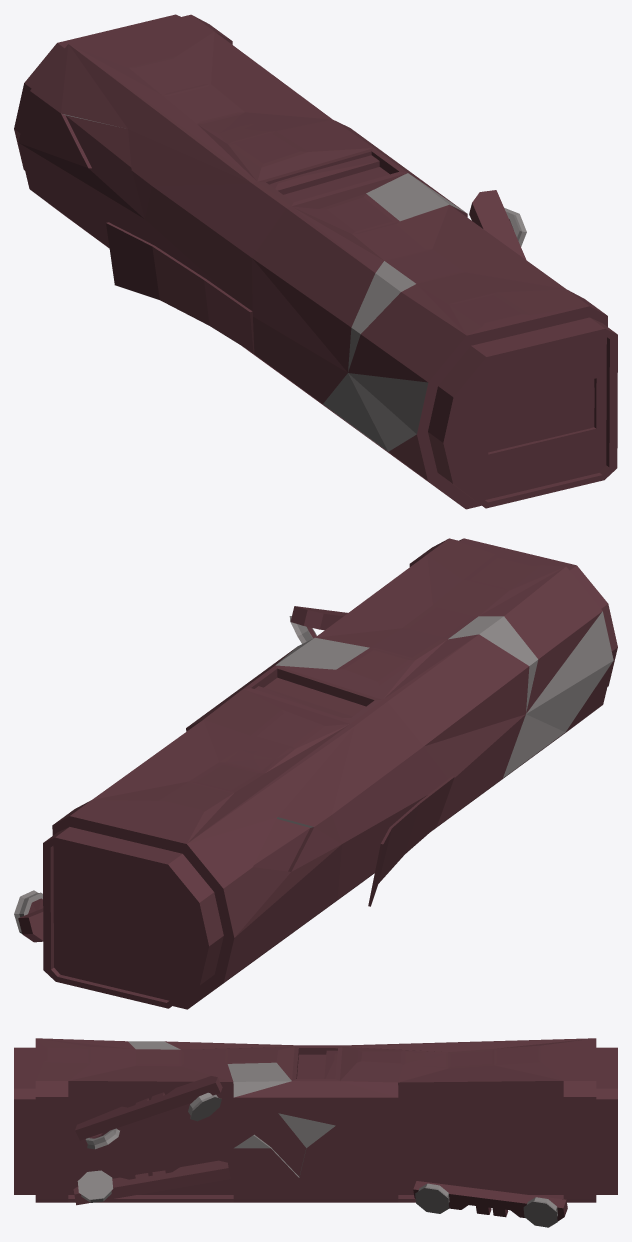
Rendered from train-speed-wagon-apocalypse-a.fbx.
3 renders of one model, top to bottom at view 1: azimuth 30°, elevation 25°; view 2: azimuth 150°, elevation 25°; view 3: azimuth 270°, elevation 25°, orthographic. The views are drawn at different scales.
Visible parts, largest first — view 1: train-speed-wagon-apocalypse-a; view 2: train-speed-wagon-apocalypse-a; view 3: train-speed-wagon-apocalypse-a.
Boxes of the visible parts, <box> form: train-speed-wagon-apocalypse-a: <box>14,14,617,509</box>; train-speed-wagon-apocalypse-a: <box>14,538,617,1009</box>; train-speed-wagon-apocalypse-a: <box>14,1038,617,1227</box>.
Bounding box in the file's own units: 5.51 × 3.37 × 13.89.
